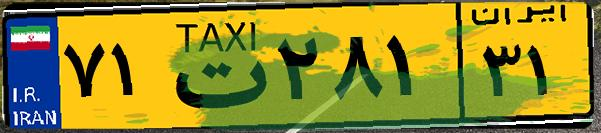1: (385, 28, 445, 110), (525, 38, 570, 115), (110, 28, 158, 98)
2: (270, 28, 330, 110)
3: (475, 38, 525, 113)
7: (57, 26, 110, 100)
8: (330, 28, 385, 110)
ت: (158, 12, 270, 120)
